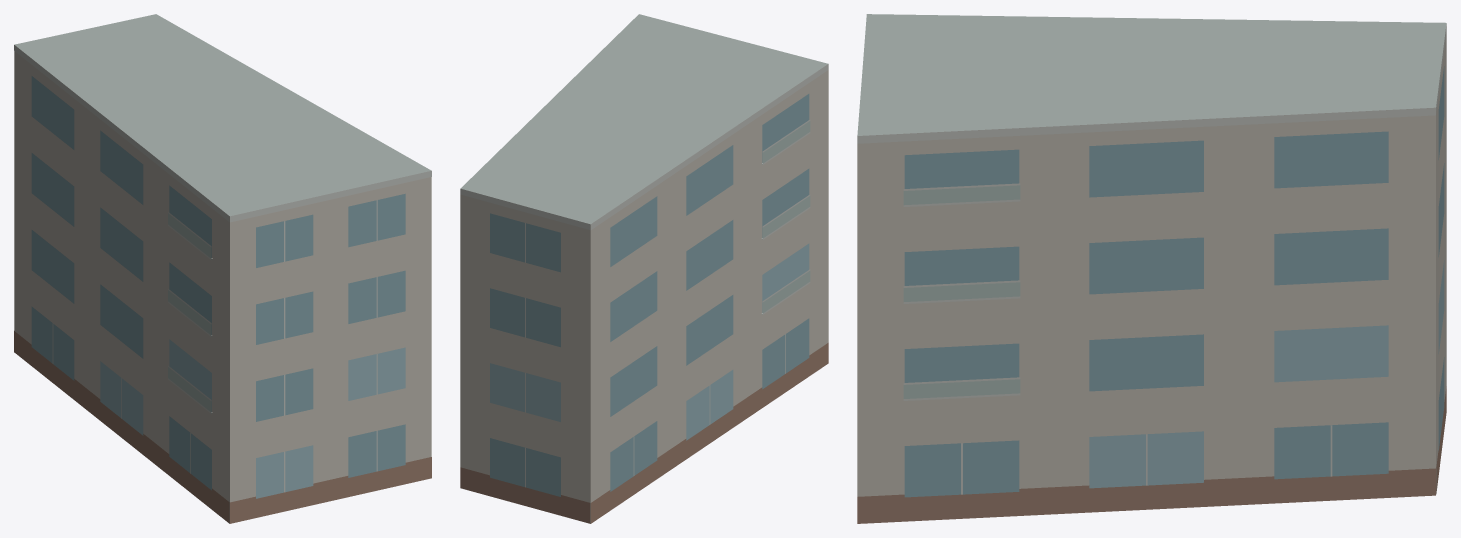
File: residential-860fe39c-26d2-437e-b40e-58b7d60608e1.glb
3 views of the same model, side by side, from view 1: azimuth 30°, elevation 25°; view 2: azimuth 150°, elevation 25°; view 3: azimuth 270°, elevation 25° (orthographic). The views are drawn at different scales.
Visible parts, largest first — view 1: residential-860fe39c-26d2-437e-b40e-58b7d60608e1.tmp; view 2: residential-860fe39c-26d2-437e-b40e-58b7d60608e1.tmp; view 3: residential-860fe39c-26d2-437e-b40e-58b7d60608e1.tmp.
Part boxes in pixels (<box>): residential-860fe39c-26d2-437e-b40e-58b7d60608e1.tmp: <box>14,14,431,523</box>; residential-860fe39c-26d2-437e-b40e-58b7d60608e1.tmp: <box>460,14,828,523</box>; residential-860fe39c-26d2-437e-b40e-58b7d60608e1.tmp: <box>857,14,1446,523</box>.
Bounding box in the file's own units: 8.24 × 12.2 × 16.81.
